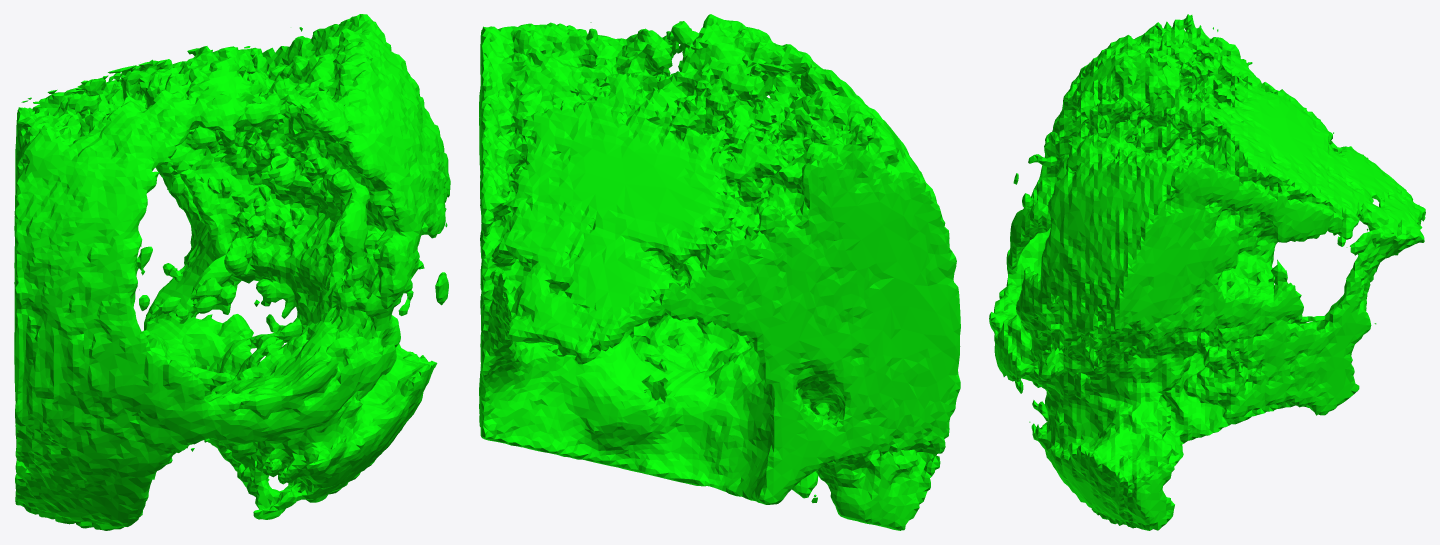
File: B939XXXX-1_base_12.obj
3 views of the same model, side by side, from view 1: azimuth 30°, elevation 25°; view 2: azimuth 150°, elevation 25°; view 3: azimuth 270°, elevation 25° (orthographic). The views are drawn at different scales.
Visible parts, largest first — view 1: 12_base; view 2: 12_base; view 3: 12_base.
Part boxes in pixels (x1,y1,x2,y2): 12_base: (14,14,450,530); 12_base: (479,14,960,530); 12_base: (989,14,1425,530).
Size of the model in its own units: 218 by 215 by 204.
